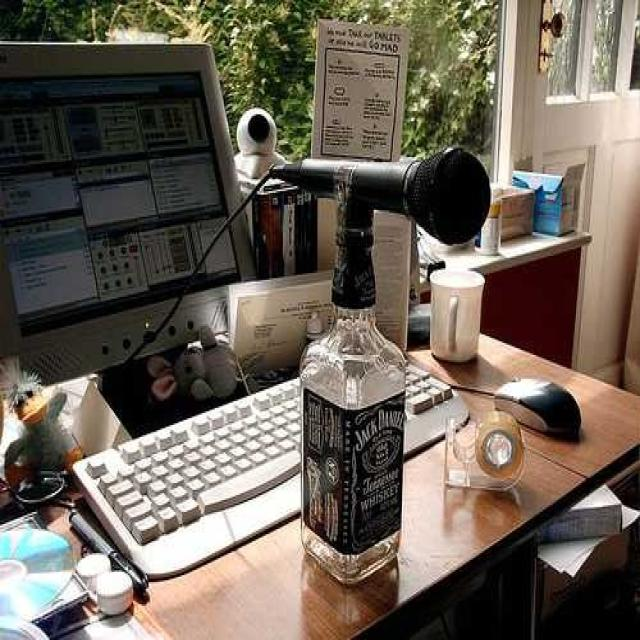microphone: (272, 146, 492, 245)
